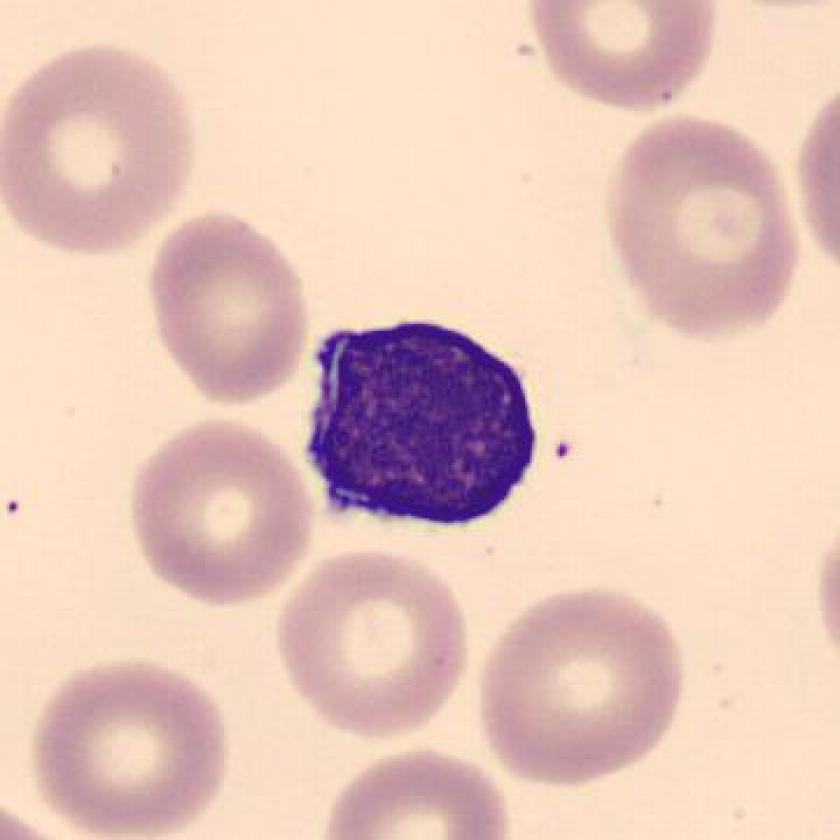lymphocyte: (281, 293, 563, 550)
